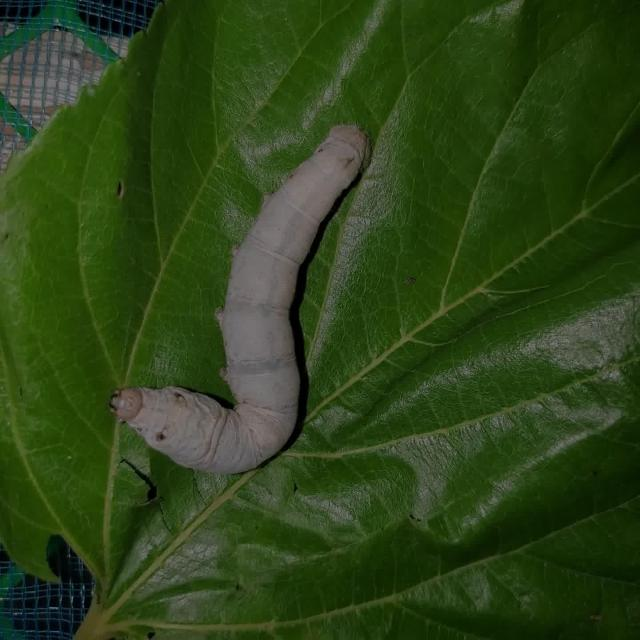Healthy: (104, 116, 372, 476)
